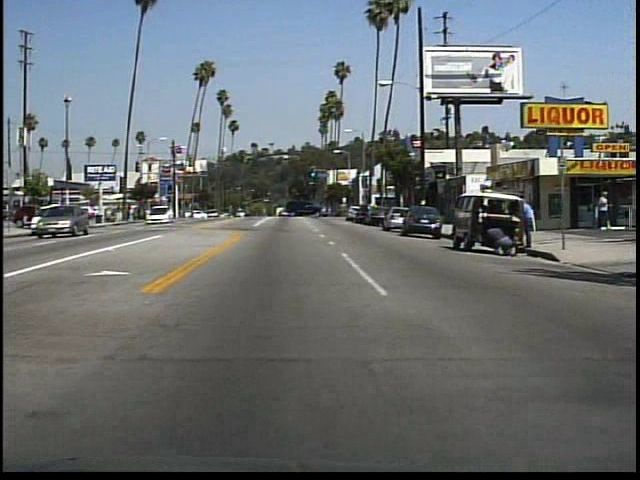person: (484, 223, 515, 260), (517, 196, 536, 249), (594, 187, 611, 235)
